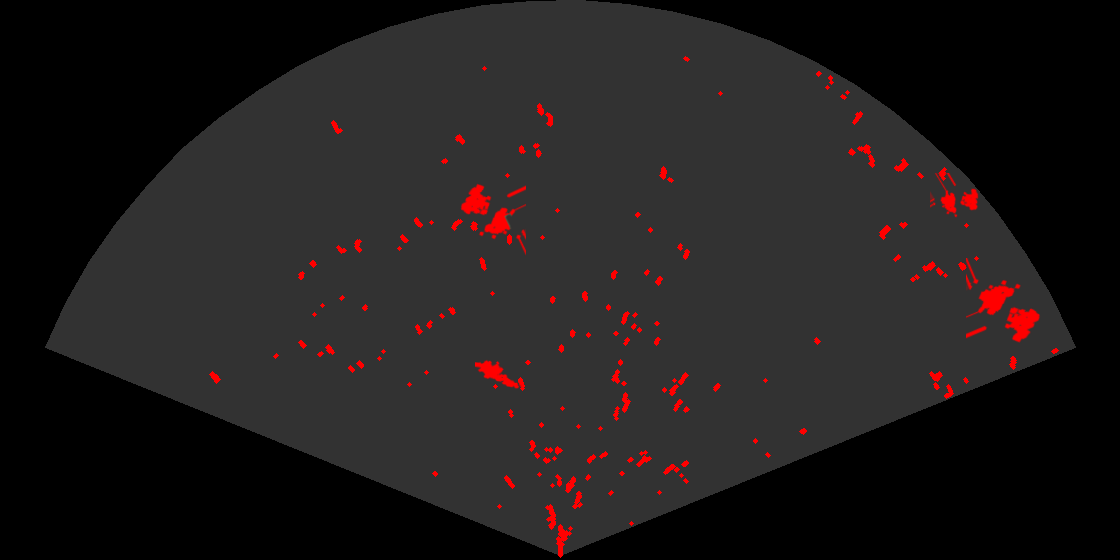cage: (966, 258, 1042, 344), (459, 182, 526, 257), (930, 173, 980, 219)
frogman: (475, 358, 522, 390)
